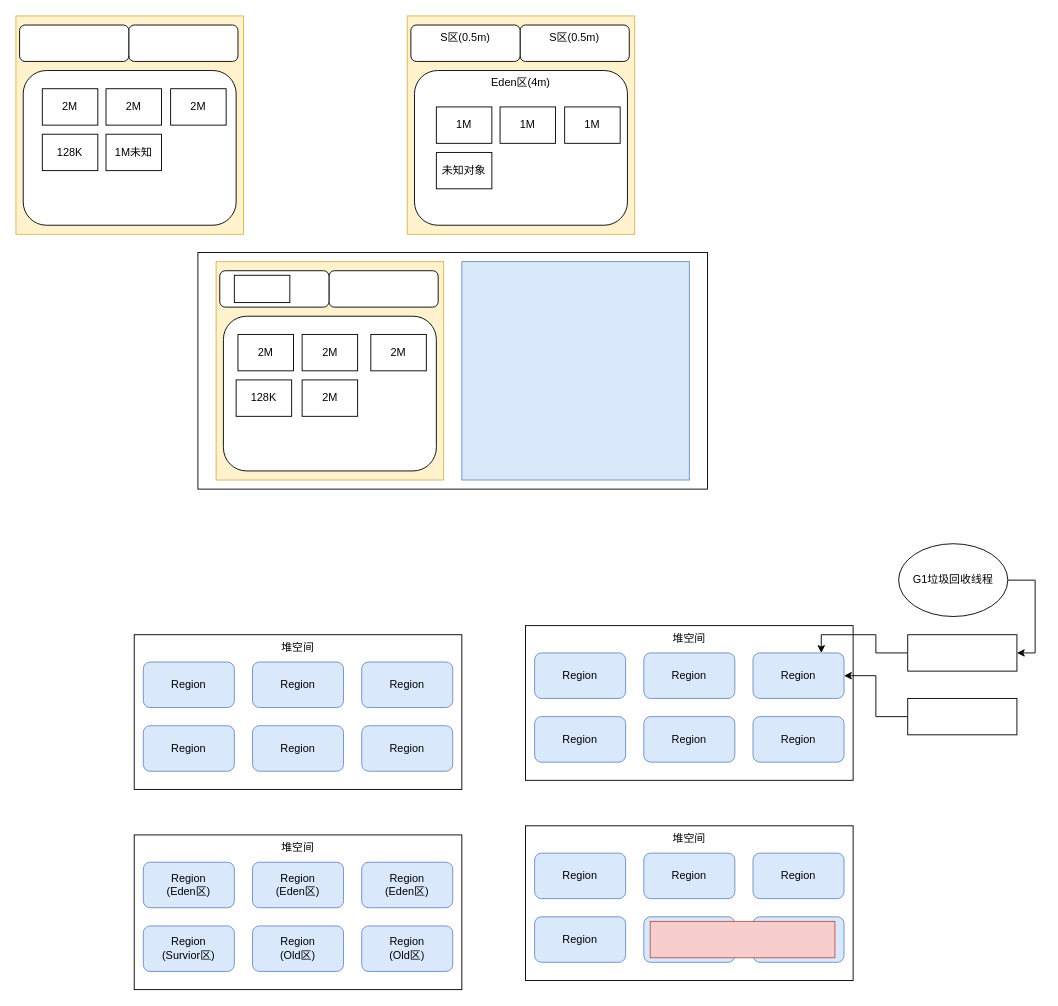
Some shapes in this 1058 by 1006 pixel diagram are drawn without their labels. The centre of each missing label's shape, as x and y in pixels:
"991K" goes at [261,288].
"大对象" goes at [742,939].
"方法区中静态变量GC Roots" goes at [962,716].
"栈中局部变量GC Roots" goes at [962,652].
